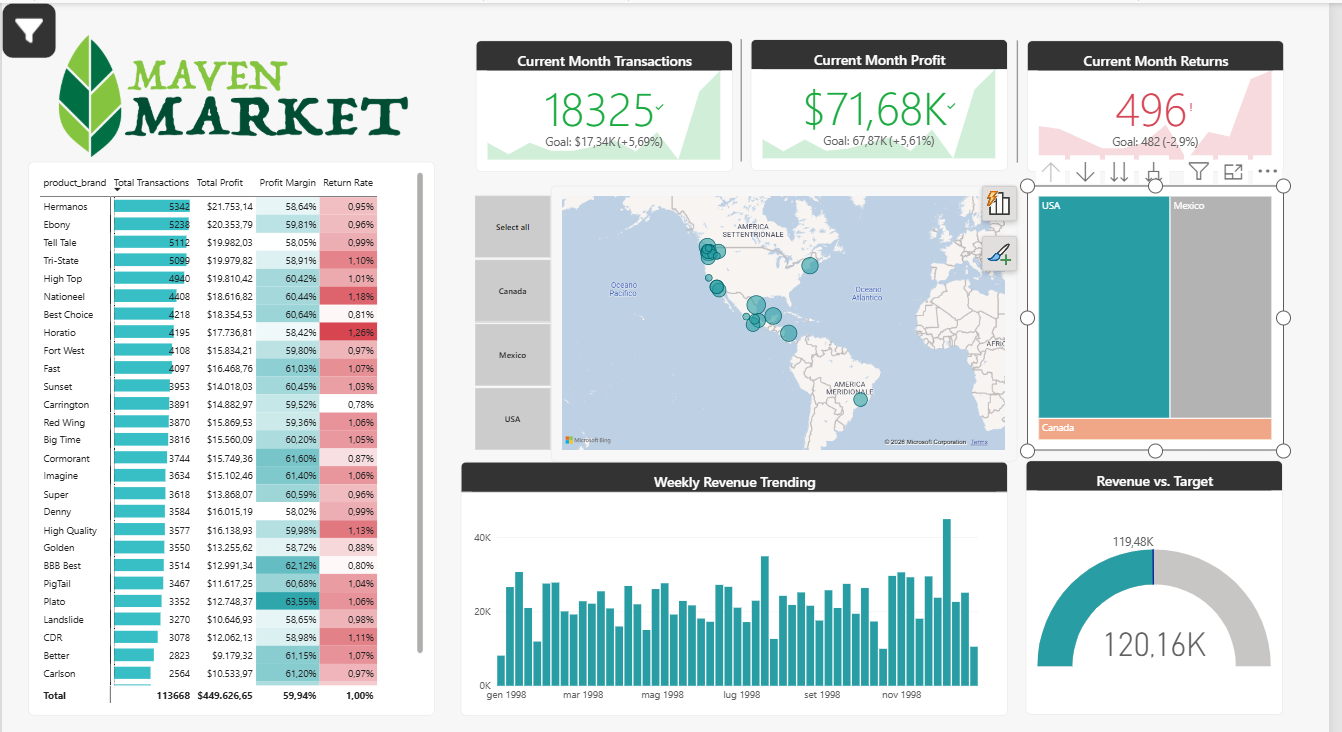

This screenshot's page, from the dashboard's own definition file:
{"tool":"powerbi","page":{"name":"Topline Performance","canvas":[1920,1080],"ordinal":0},"visuals":[{"type":"shape","box":[1286.3,55,366.7,176.7],"z":0},{"type":"shape","box":[887,53.3,367,177],"z":1000},{"type":"image","box":[66.2,15.7,531.4,235.2],"z":2000},{"type":"pivotTable","fields":{"Rows":["Products.product_brand"],"Values":["Mesure Table.Total Transactions","Mesure Table.Total Profit","Mesure Table.Profit Margin","Mesure Table.Return Rate"]},"box":[38.3,230,588.9,801.5],"z":3000},{"type":"kpi","title":"Current Month Transactions","fields":{"Goal":["Mesure Table.Last Month Transactions"],"Indicator":["Mesure Table.Total Transactions"],"TrendLine":["Calendar.Start of Month"]},"box":[685,55,371.7,190],"z":4000},{"type":"kpi","title":"Current Month Returns","fields":{"Goal":["Mesure Table.Last Month Returns"],"Indicator":["Mesure Table.Total Returns"],"TrendLine":["Calendar.Start of Month"]},"box":[1483.3,55,371.7,190],"z":5000},{"type":"kpi","title":"Current Month Profit","fields":{"Goal":["Mesure Table.Last Month Profit"],"Indicator":["Mesure Table.Total Profit"],"TrendLine":["Calendar.Start of Month"]},"box":[1084.3,53.3,371.7,190],"z":6000},{"type":"map","fields":{"Category":["Stores.City"],"Size":["Mesure Table.Total Transactions"]},"box":[795,263.3,675,400],"z":7000},{"type":"slicer","fields":{"Values":["Stores.store_country"]},"box":[665,276.7,148.3,371.7],"z":8000},{"type":"treemap","fields":{"Group":["Stores.store_country","Stores.State","Stores.City"],"Values":["Mesure Table.Total Transactions"]},"box":[1483.3,263.3,371.7,385],"z":9000},{"type":"columnChart","title":"Weekly Revenue Trending","fields":{"Category":["Calendar.Start Of Week"],"Y":["Mesure Table.Total Revenue"]},"box":[665,663.3,791.7,368.3],"z":10000},{"type":"gauge","title":"Revenue vs. Target","fields":{"TargetValue":["Mesure Table.Revenue Target"],"Y":["Mesure Table.Total Revenue"]},"box":[1483,663,372,368],"z":11000},{"type":"actionButton","box":[0,0,78.3,80],"z":11001}]}

Visuals, with their boxes on the page's 1920x1080 design canvas (x1, y1, x2, y2). These are canvas units, not pixel positions in the 1342x732 screenshot, which may show the page scaled, cropped or inside an application window:
shape: (1286,55,1653,232)
shape: (887,53,1254,230)
image: (66,16,598,251)
pivotTable - Products.product_brand x Mesure Table.Total Transactions: (38,230,627,1032)
"Current Month Transactions" kpi: (685,55,1057,245)
"Current Month Returns" kpi: (1483,55,1855,245)
"Current Month Profit" kpi: (1084,53,1456,243)
map - Stores.City x Mesure Table.Total Transactions: (795,263,1470,663)
slicer - Stores.store_country: (665,277,813,648)
treemap - Stores.store_country x Stores.State: (1483,263,1855,648)
"Weekly Revenue Trending" columnChart: (665,663,1457,1032)
"Revenue vs. Target" gauge: (1483,663,1855,1031)
actionButton: (0,0,78,80)
